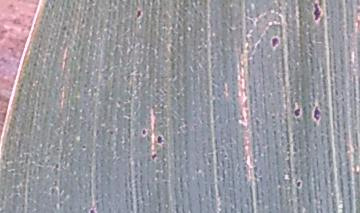tarspot: (310, 1, 327, 27), (309, 98, 323, 127), (290, 99, 306, 123), (268, 31, 284, 54), (133, 5, 146, 23), (155, 131, 167, 150), (138, 125, 150, 140), (293, 176, 305, 191), (85, 203, 100, 213), (148, 151, 160, 163)
